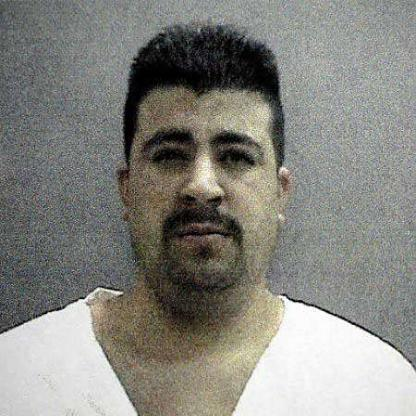face: (129, 38, 281, 304)
